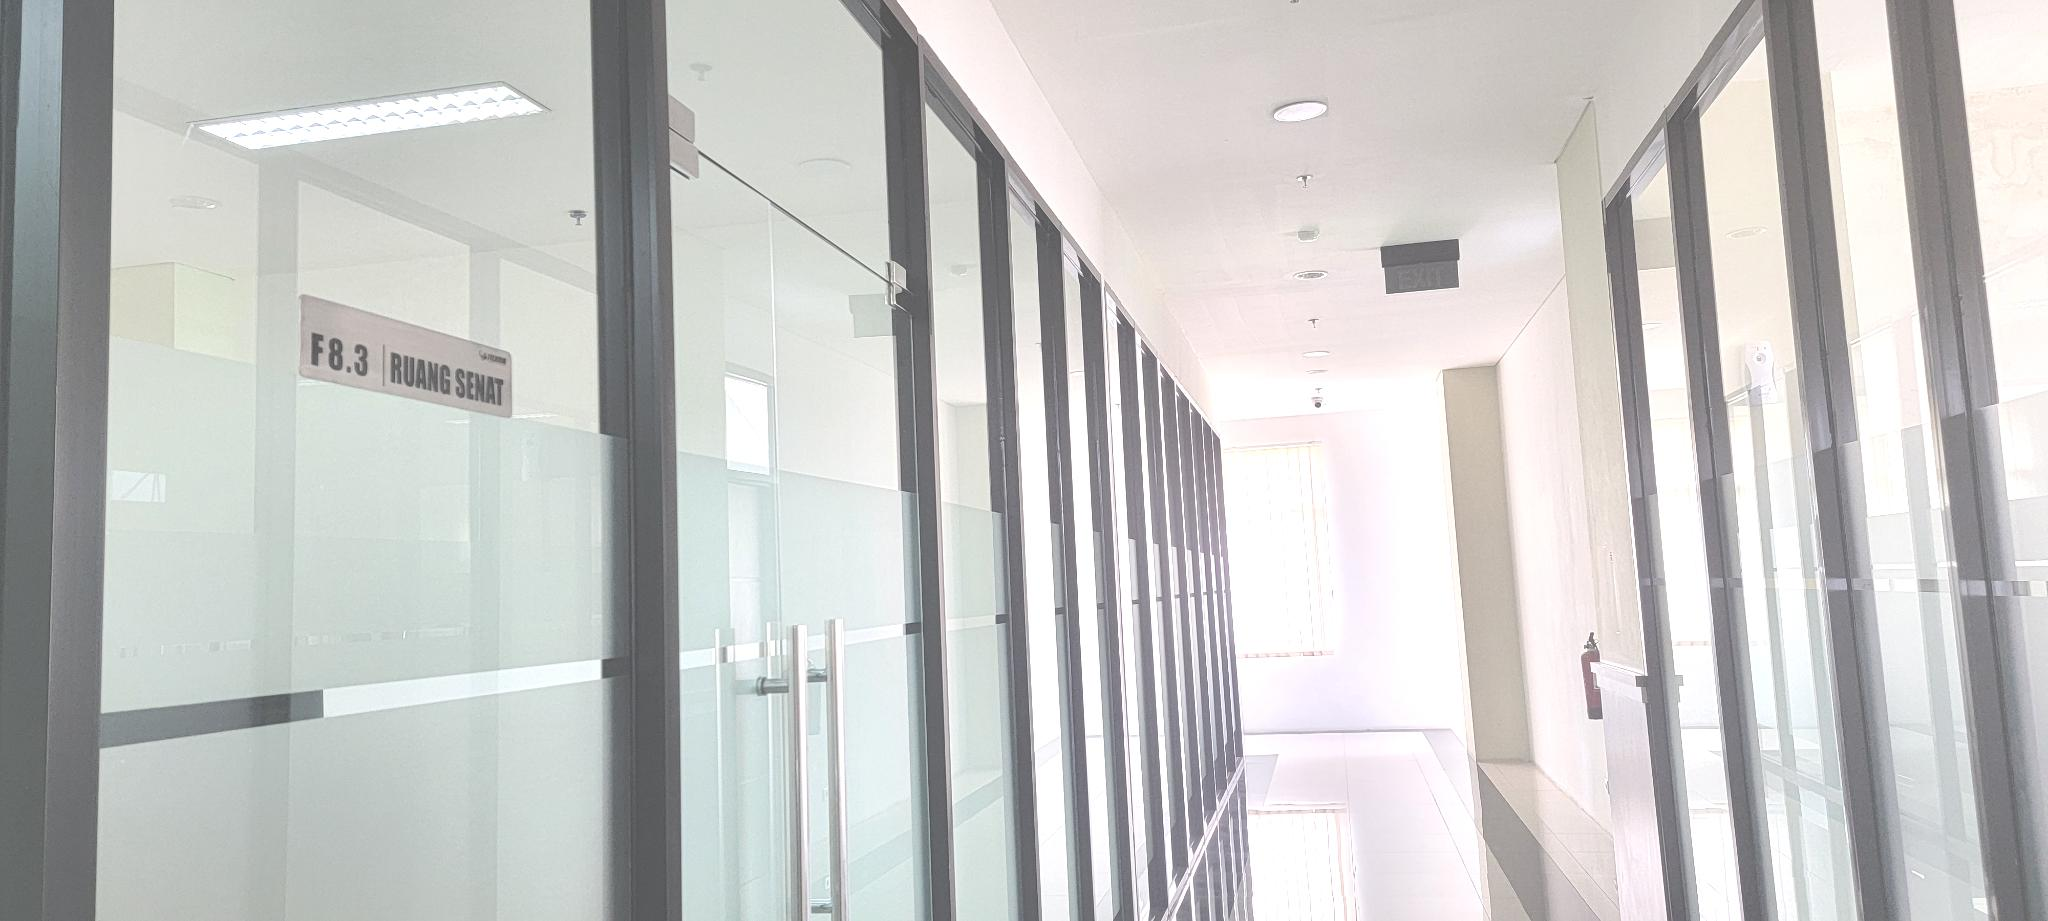plate: (296, 291, 513, 422)
